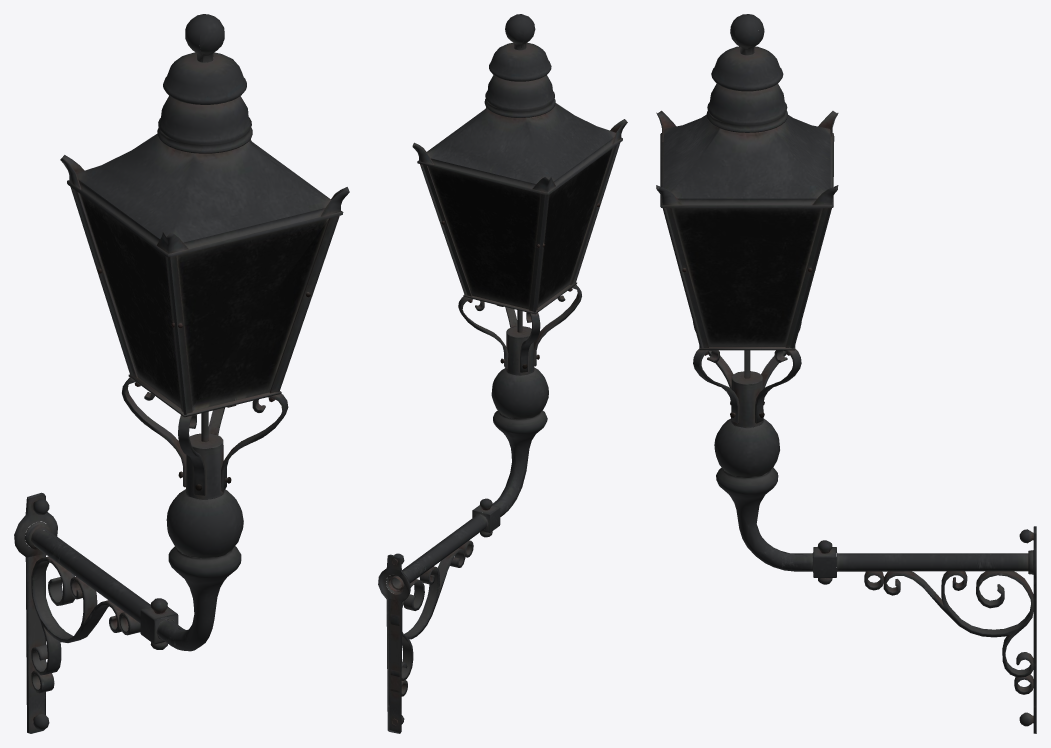
3 views of the same model, side by side, from view 1: azimuth 30°, elevation 25°; view 2: azimuth 150°, elevation 25°; view 3: azimuth 270°, elevation 25° (orthographic). The views are drawn at different scales.
Visible parts, largest first — view 1: street_lamp_02; view 2: street_lamp_02; view 3: street_lamp_02.
Part boxes in pixels (x1=…): street_lamp_02: x1=14, y1=14, x2=349, y2=733; street_lamp_02: x1=378, y1=14, x2=627, y2=733; street_lamp_02: x1=656, y1=14, x2=1036, y2=733.
Size of the model in its own units: 0.3858 by 1.67 by 0.8064.
3 materials, 3 textured.
